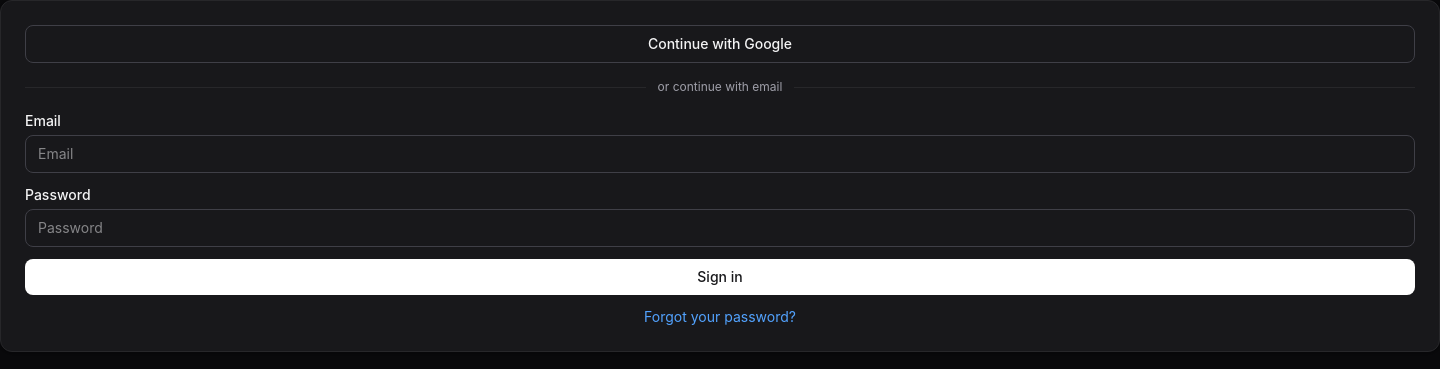
it: LoginForm › switches to the 2FA code form when the server requires it
The width and height of the screenshot is (1440, 369).
Later steps or results of the test are not shown.
Type "a@example.com" into the field labelled "Email" at (720, 154), box [25, 135, 1415, 173]
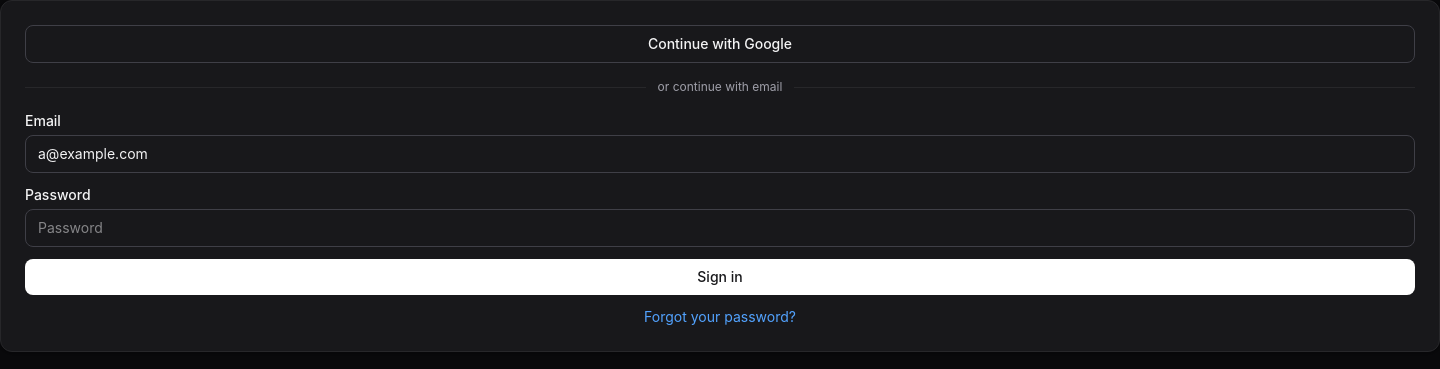
Type "pw1234567890" into the password field labelled "Password" at (720, 228), box [25, 209, 1415, 247]
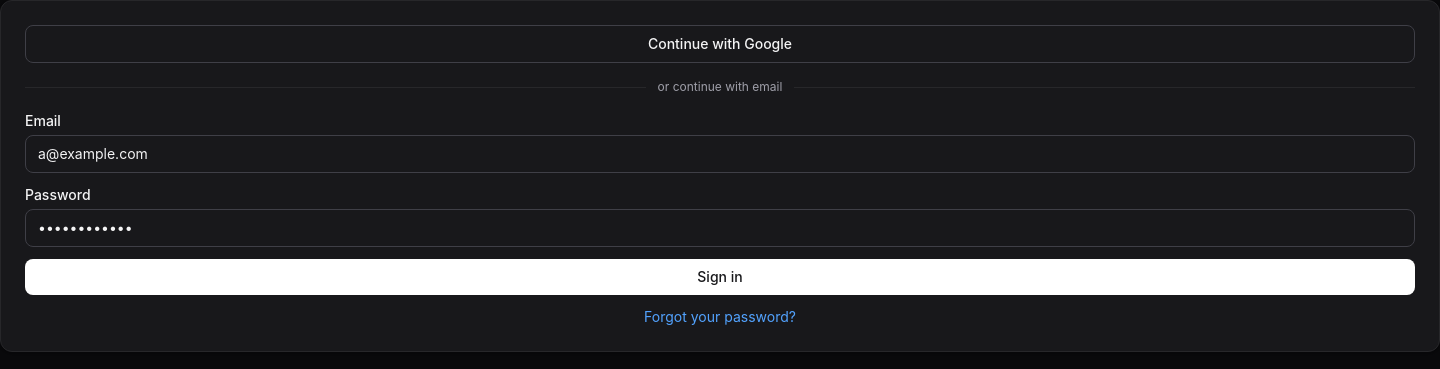
Click the button "Sign in" at (720, 277), box [25, 259, 1415, 295]
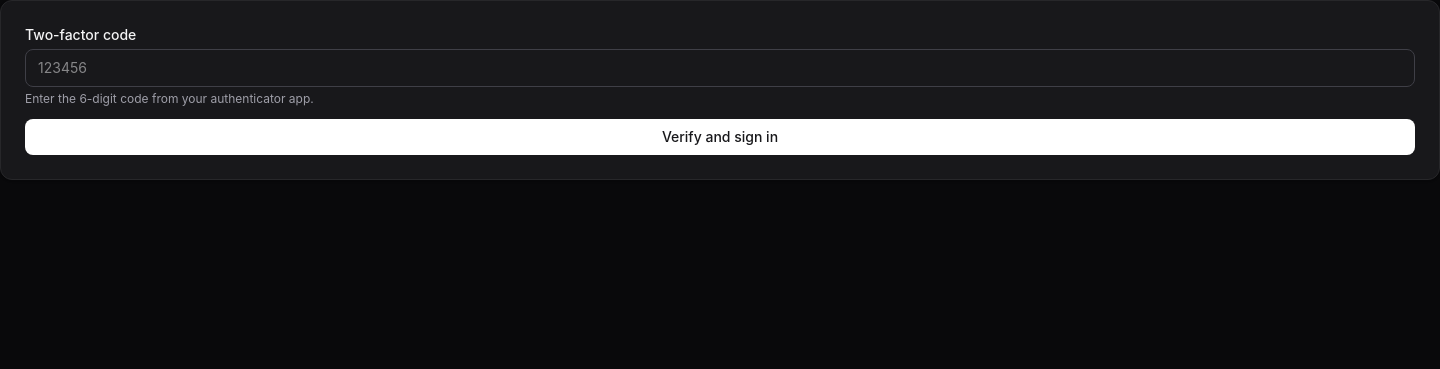
Expected: the field labelled "Two-factor code" is shown, [25, 49, 1415, 87]
